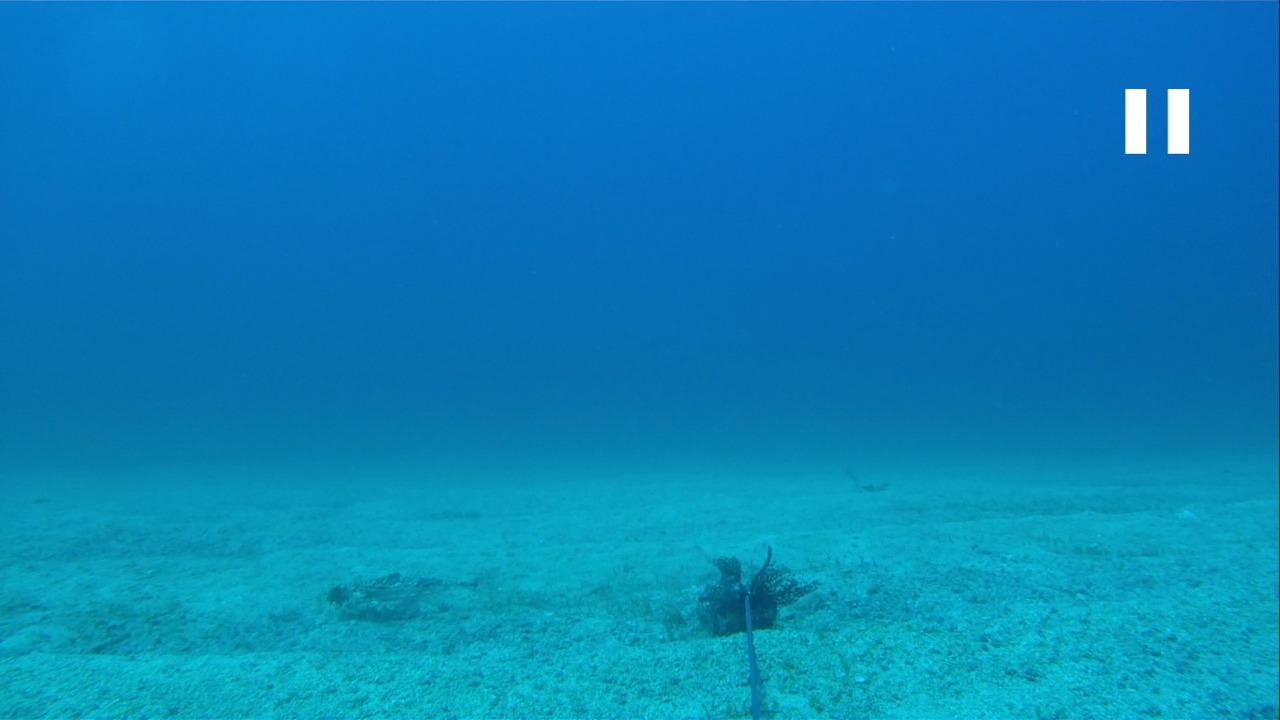dactylopterus: (320, 567, 497, 626)
